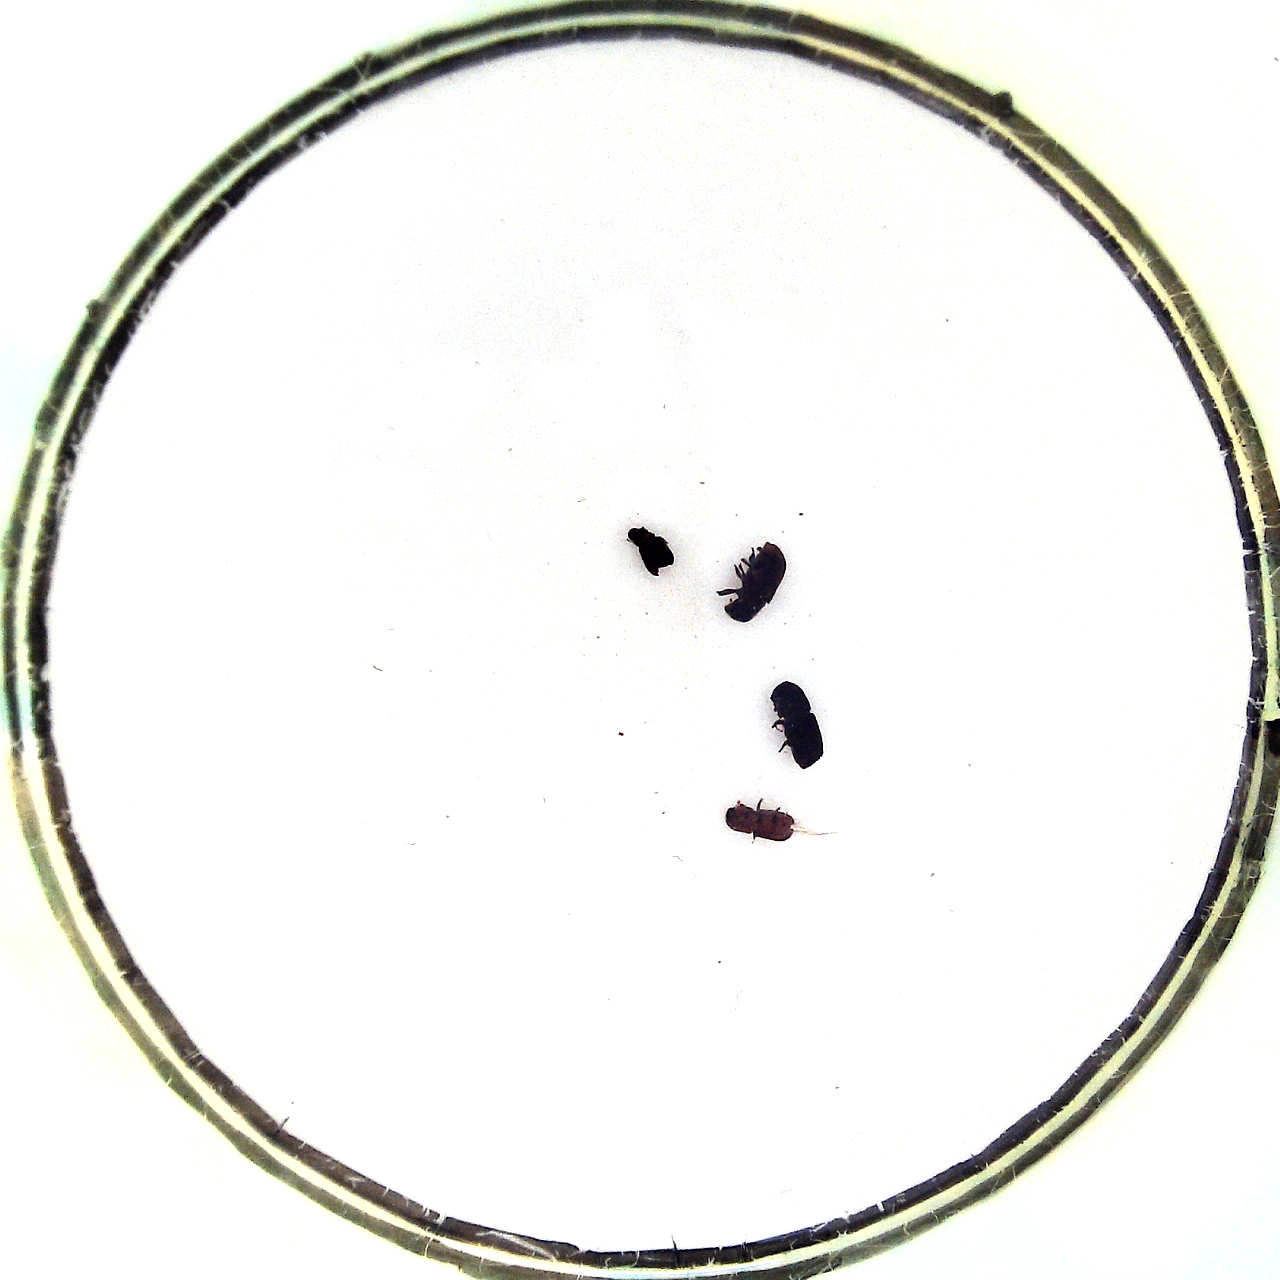Linnaeus: (765, 675, 828, 772)
acuminatus: (720, 796, 813, 842)
armandi: (719, 539, 792, 624)
coleoptera: (625, 523, 676, 578)
